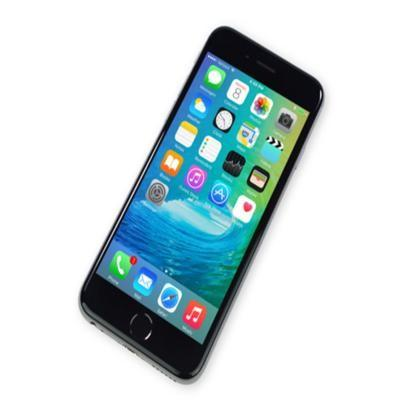not trash: (77, 26, 320, 378)
